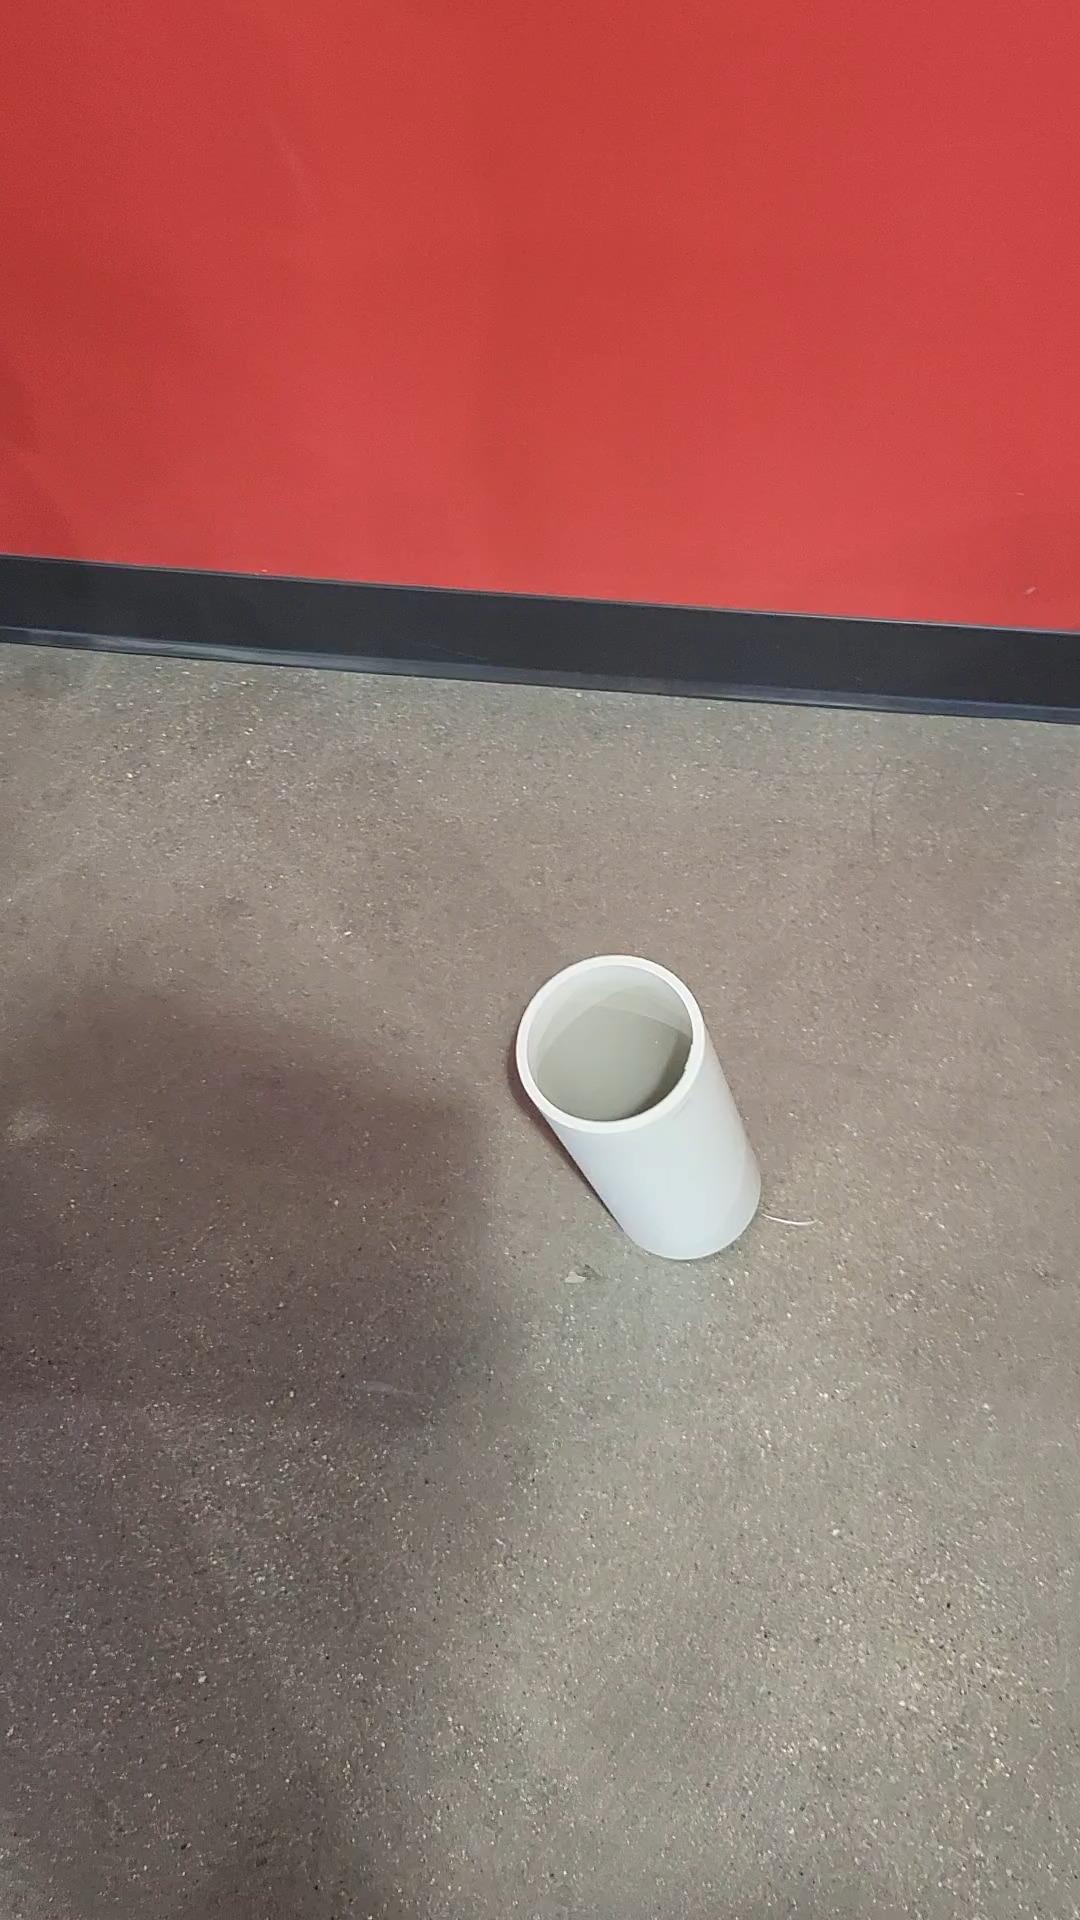coral: (509, 949, 770, 1263)
